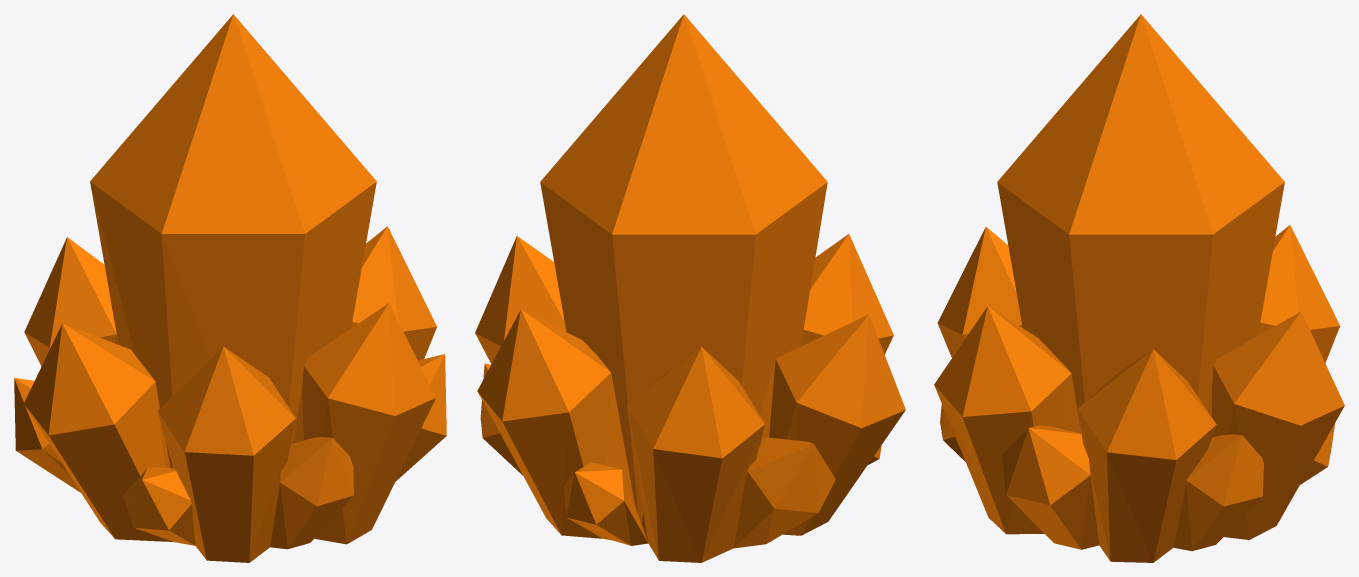
Rendered from crystal_orange.obj.
3 renders of one model, left to right at view 1: azimuth 30°, elevation 25°; view 2: azimuth 150°, elevation 25°; view 3: azimuth 270°, elevation 25°, orthographic.
Parts seen in each view (by area): view 1: Crystal_Cube; view 2: Crystal_Cube; view 3: Crystal_Cube.
Boxes of the visible parts, bbox=[...] form: Crystal_Cube: bbox=[14, 14, 446, 562]; Crystal_Cube: bbox=[475, 14, 905, 562]; Crystal_Cube: bbox=[934, 14, 1344, 562].
Size of the model in its own units: 0.8345 by 0.9795 by 0.7515.
